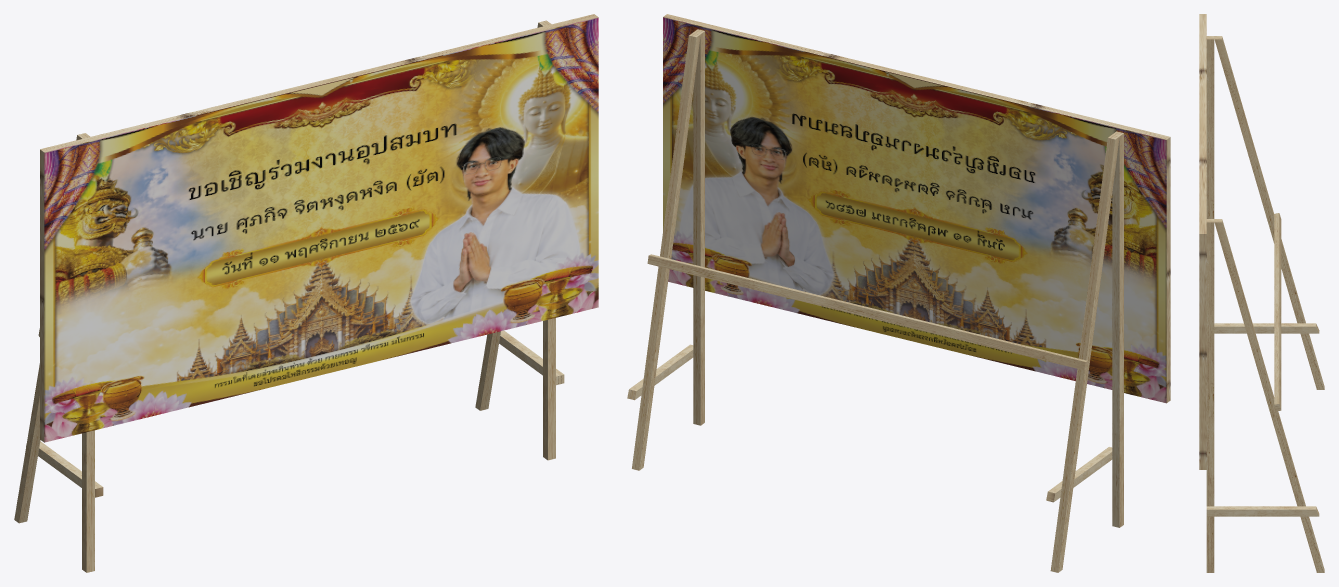
The model's file is TempleSign 1x2m.fbx.
The picture shows the model from 3 angles, left to right: view 1: azimuth 30°, elevation 25°; view 2: azimuth 150°, elevation 25°; view 3: azimuth 270°, elevation 25°; orthographic projection. The views are drawn at different scales.
Parts seen in each view (by area): view 1: TempleSign 1x2m; view 2: TempleSign 1x2m; view 3: TempleSign 1x2m.
Boxes of the visible parts, left/top/right/bottom form: TempleSign 1x2m: left=14, top=14, right=598, bottom=572; TempleSign 1x2m: left=627, top=14, right=1170, bottom=572; TempleSign 1x2m: left=1199, top=14, right=1324, bottom=572.
Bounding box in the file's own units: 200 × 150 × 48.1.
2 materials, 2 textured.
